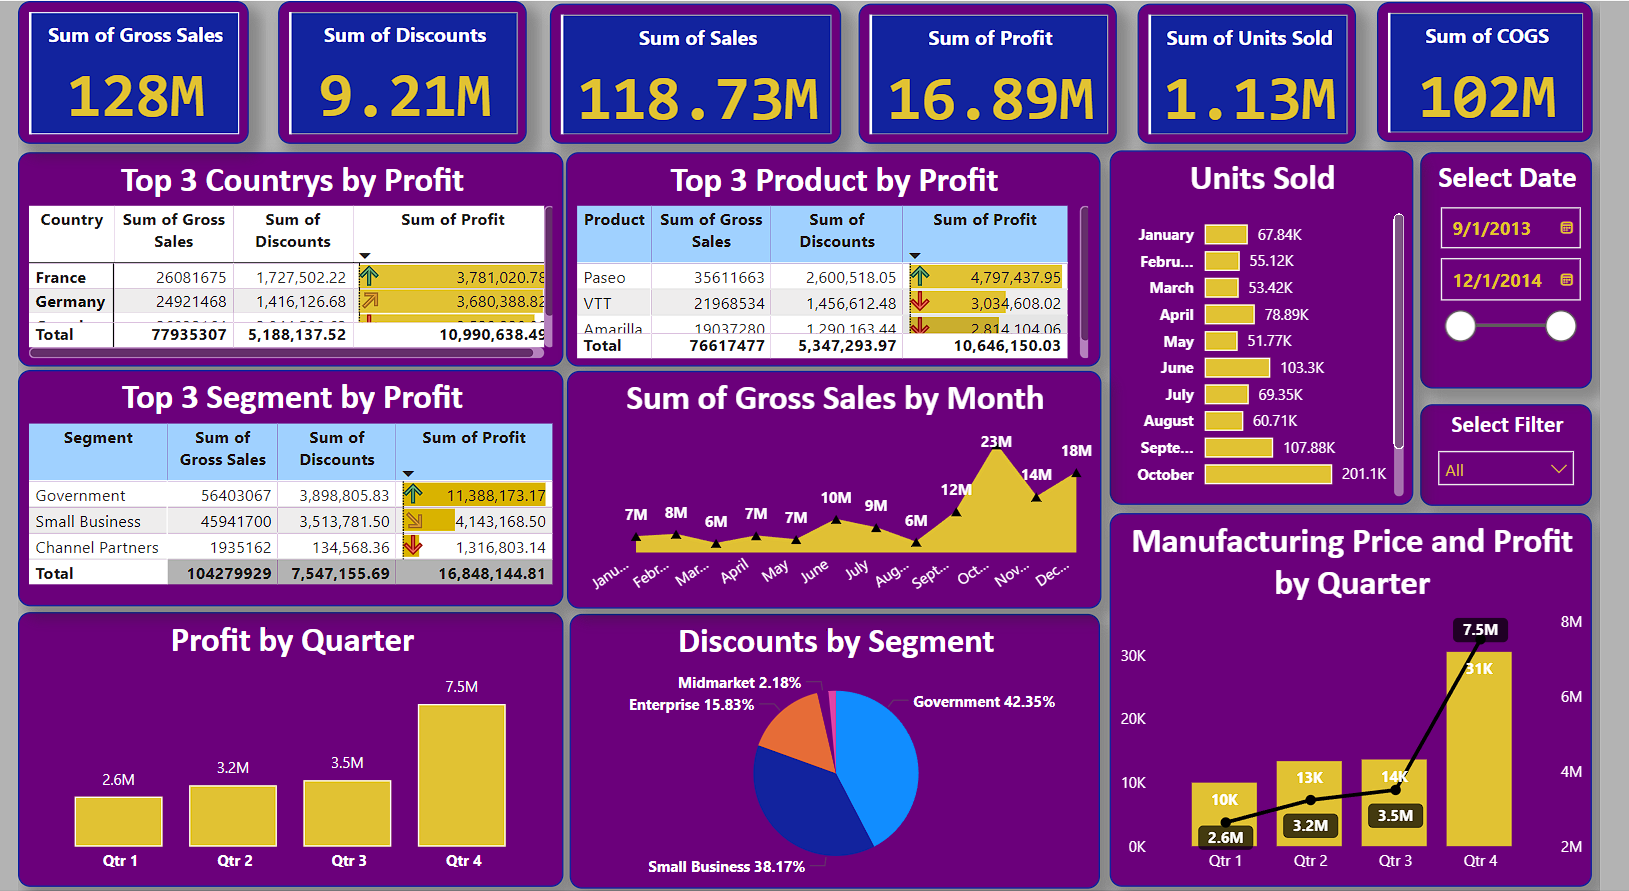

The page's visual inventory and layout, read from the dashboard file:
{"tool":"powerbi","page":{"name":"Page 1","canvas":[1280,720],"ordinal":0},"visuals":[{"type":"cardVisual","fields":{"Data":["Sum(Sales_Data.COGS)"]},"box":[1099.1,1,174.1,113.8],"z":0},{"type":"cardVisual","fields":{"Data":["Sum(Sales_Data. Sales)"]},"box":[429.9,1.9,235.4,113.8],"z":1000},{"type":"cardVisual","fields":{"Data":["Sum(Sales_Data.Units Sold)"]},"box":[905.5,1.9,177,113.8],"z":2000},{"type":"cardVisual","fields":{"Data":["Sum(Sales_Data.Profit)"]},"box":[679.9,1.9,209.1,113.8],"z":3000},{"type":"cardVisual","fields":{"Data":["Sum(Sales_Data.Discounts)"]},"box":[210.1,0,201.3,115.7],"z":4000},{"type":"pivotTable","title":"Top 3 Countrys by Profit","fields":{"Rows":["Sales_Data.Country"],"Values":["Sum(Sales_Data.Gross Sales)","Sum(Sales_Data.Discounts)","Sum(Sales_Data.Profit)"]},"box":[0,122.6,441.6,173.1],"z":5000},{"type":"cardVisual","fields":{"Data":["Sum(Sales_Data.Gross Sales)"]},"box":[0,0,186.7,115.7],"z":6000},{"type":"clusteredColumnChart","title":"Profit by Quarter","fields":{"Category":["Sales_Data.Date.Variation.Date Hierarchy.Quarter"],"Y":["Sum(Sales_Data.Profit)"]},"box":[0,494.1,441.6,222.7],"z":7000},{"type":"pivotTable","title":"Top 3 Product by Profit","fields":{"Rows":["Sales_Data.Product"],"Values":["Sum(Sales_Data.Gross Sales)","Sum(Sales_Data.Discounts)","Sum(Sales_Data.Profit)"]},"box":[443.5,122.6,431.9,173.1],"z":8000},{"type":"pivotTable","title":"Top 3 Segment by Profit","fields":{"Rows":["Sales_Data.Segment"],"Values":["Sum(Sales_Data.Gross Sales)","Sum(Sales_Data.Discounts)","Sum(Sales_Data.Profit)"]},"box":[0,298.6,441.6,191.6],"z":9000},{"type":"pieChart","title":"Discounts by Segment","fields":{"Y":["Sum(Sales_Data.Discounts)"],"Category":["Sales_Data.Segment"]},"box":[446.4,496,428.9,221.8],"z":10000},{"type":"slicer","title":"Select Filter","fields":{"Values":["Sales_Data.Country","Sales_Data.Segment","Sales_Data.Product"]},"box":[1134.1,325.8,139.1,81.7],"z":11000},{"type":"slicer","title":"Select Date","fields":{"Values":["Sales_Data.Date"]},"box":[1134.1,122.6,139.1,191.6],"z":14000},{"type":"clusteredBarChart","title":" Units Sold ","fields":{"Category":["Sales_Data.Date.Variation.Date Hierarchy.Month","Sales_Data.Date.Variation.Date Hierarchy.Day"],"Y":["Sum(Sales_Data.Units Sold)"]},"box":[883.2,120.6,245.1,286.9],"z":14001},{"type":"areaChart","fields":{"Category":["Sales_Data.Date.Variation.Date Hierarchy.Month","Sales_Data.Date.Variation.Date Hierarchy.Day"],"Y":["Sum(Sales_Data.Gross Sales)"]},"box":[444,299,432,192],"z":14002},{"type":"lineStackedColumnComboChart","title":" Manufacturing Price and Profit by Quarter","fields":{"Y":["Sum(Sales_Data.Manufacturing Price)"],"Category":["Sales_Data.Date.Variation.Date Hierarchy.Quarter"],"Y2":["Sum(Sales_Data.Profit)"]},"box":[883.2,414.3,390,302.5],"z":14003}]}

Visuals, with their boxes in screenshot pixels (x1, y1, x2, y2), scaled from the page's 1280x720 canvas onto the 1629x891 screenshot:
cardVisual - Sum(Sales_Data.COGS): 1399/1/1620/142
cardVisual - Sum(Sales_Data. Sales): 547/2/847/143
cardVisual - Sum(Sales_Data.Units Sold): 1152/2/1378/143
cardVisual - Sum(Sales_Data.Profit): 865/2/1131/143
cardVisual - Sum(Sales_Data.Discounts): 267/0/524/143
"Top 3 Countrys by Profit" pivotTable: 0/152/562/366
cardVisual - Sum(Sales_Data.Gross Sales): 0/0/238/143
"Profit by Quarter" clusteredColumnChart: 0/611/562/887
"Top 3 Product by Profit" pivotTable: 564/152/1114/366
"Top 3 Segment by Profit" pivotTable: 0/370/562/607
"Discounts by Segment" pieChart: 568/614/1114/888
"Select Filter" slicer: 1443/403/1620/504
"Select Date" slicer: 1443/152/1620/389
" Units Sold " clusteredBarChart: 1124/149/1436/504
areaChart - Sales_Data.Date.Variation.Date Hierarchy.Month x Sales_Data.Date.Variation.Date Hierarchy.Day: 565/370/1115/608
" Manufacturing Price and Profit by Quarter" lineStackedColumnComboChart: 1124/513/1620/887
